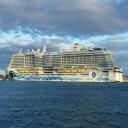cruises: (6, 42, 124, 85)
